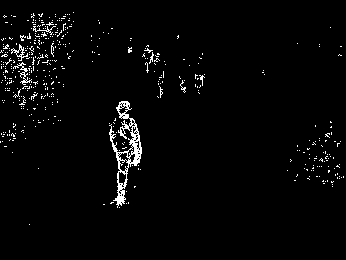person: (109, 98, 142, 210)
